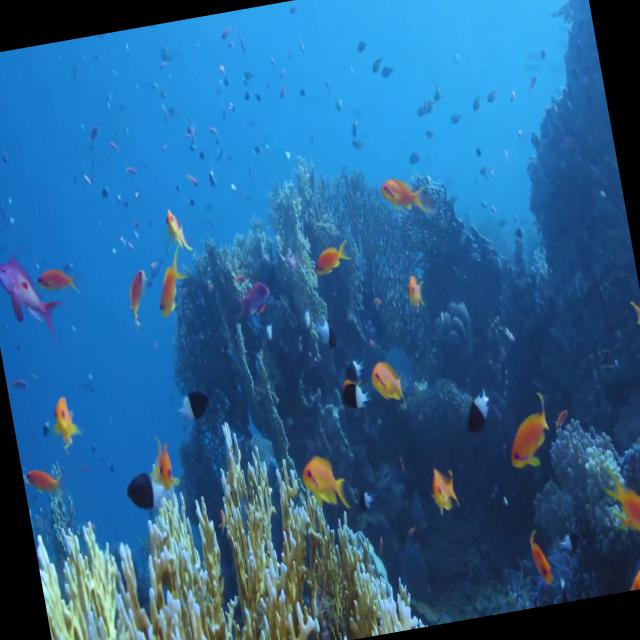fish: (0, 249, 70, 356), (499, 394, 557, 471), (298, 444, 358, 516), (381, 168, 435, 232), (606, 471, 640, 551), (154, 250, 191, 320), (27, 262, 84, 304), (122, 258, 156, 328), (309, 230, 356, 277), (425, 462, 463, 518), (366, 358, 406, 408)
